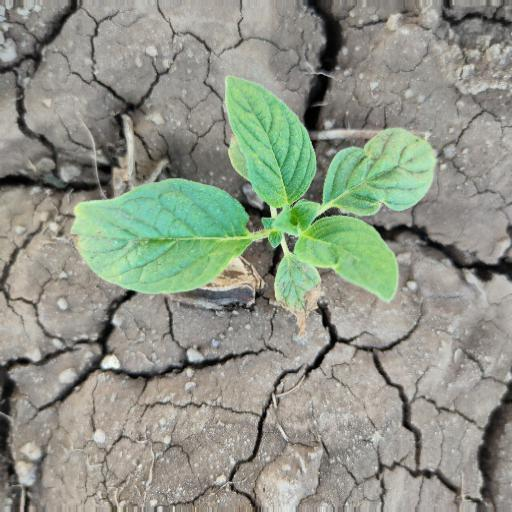crop: (67, 78, 446, 320)
